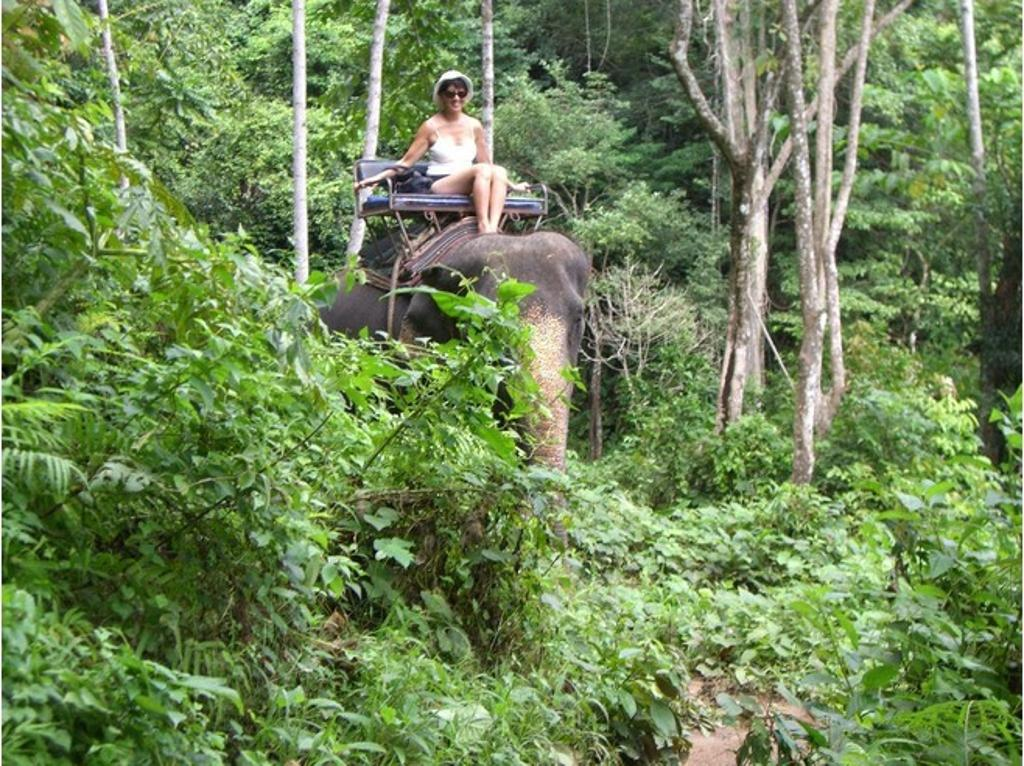face: (444, 83, 465, 111)
